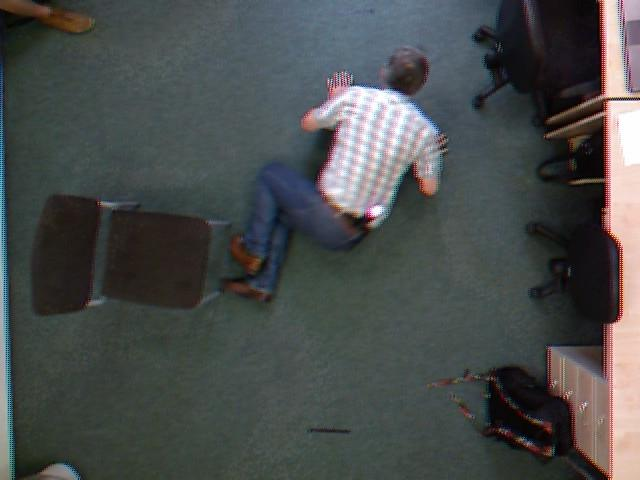fall: (209, 44, 458, 310)
